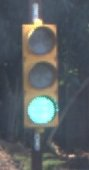Green: (18, 16, 64, 137)
